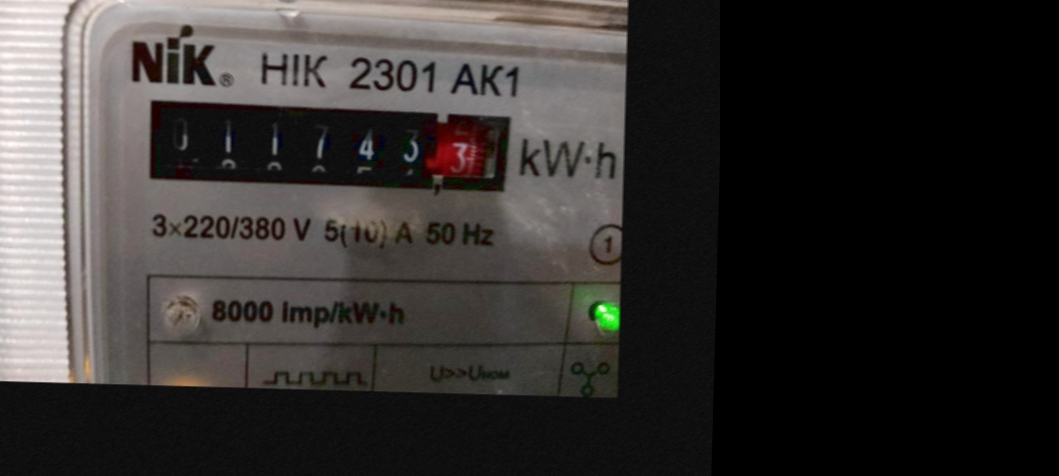0: (168, 113, 191, 153), (218, 114, 237, 155)
1: (265, 116, 282, 157)
3: (400, 123, 421, 166), (447, 137, 468, 175)
4: (355, 121, 376, 162)
7: (308, 117, 332, 162)
screen: (128, 85, 519, 203)
